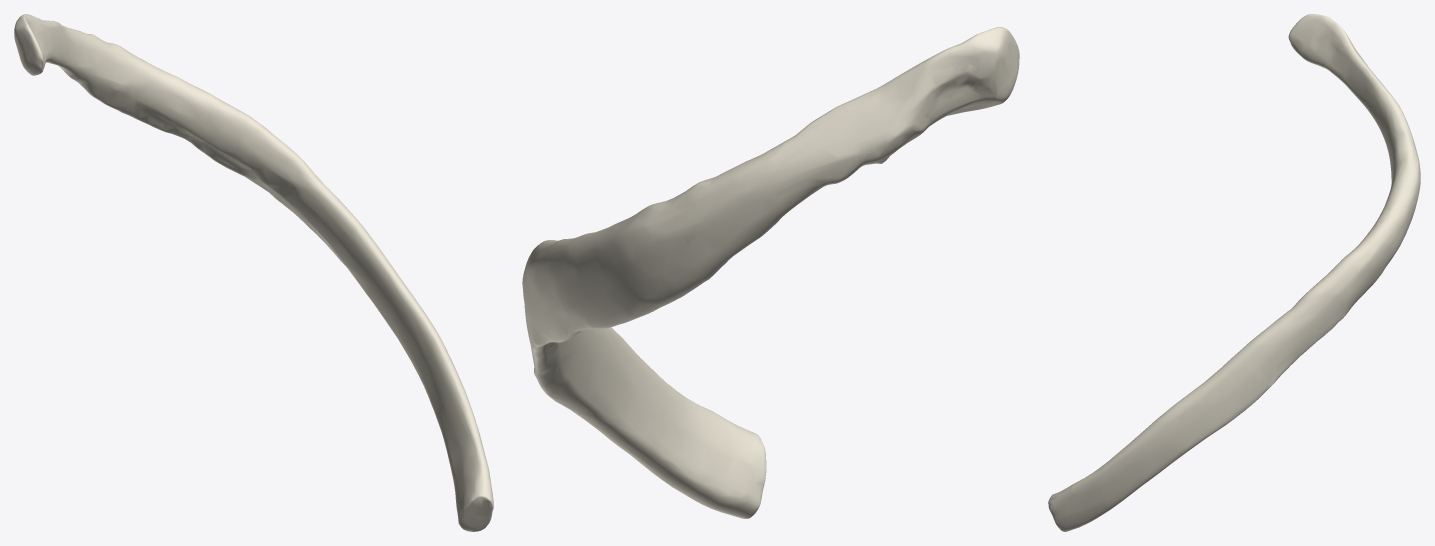
3 renders of one model, left to right at view 1: azimuth 30°, elevation 25°; view 2: azimuth 150°, elevation 25°; view 3: azimuth 270°, elevation 25°, orthographic. The views are drawn at different scales.
Parts seen in each view (by area): view 1: ZA_ab005e833046c851; view 2: ZA_ab005e833046c851; view 3: ZA_ab005e833046c851.
Boxes of the visible parts, left/top/right/bottom form: ZA_ab005e833046c851: left=14, top=14, right=493, bottom=531; ZA_ab005e833046c851: left=522, top=27, right=1019, bottom=518; ZA_ab005e833046c851: left=1048, top=14, right=1420, bottom=531.
Bounding box in the file's own units: 0.1152 × 0.1551 × 0.1324.
